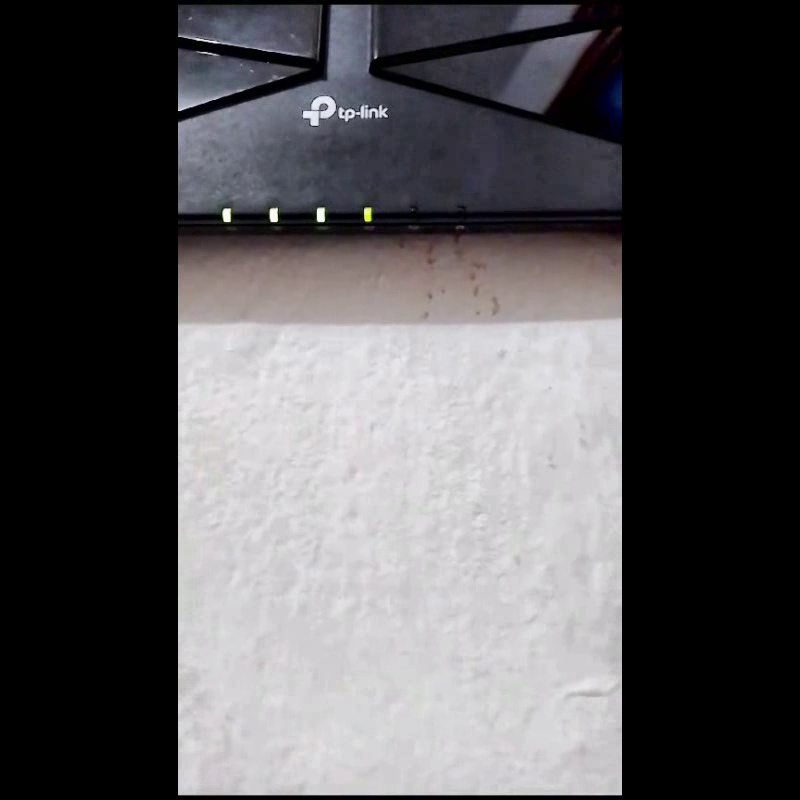off: (456, 204, 466, 221), (408, 204, 417, 220)
on_green: (315, 206, 326, 224), (221, 207, 231, 223), (269, 207, 278, 224), (363, 206, 372, 222)
